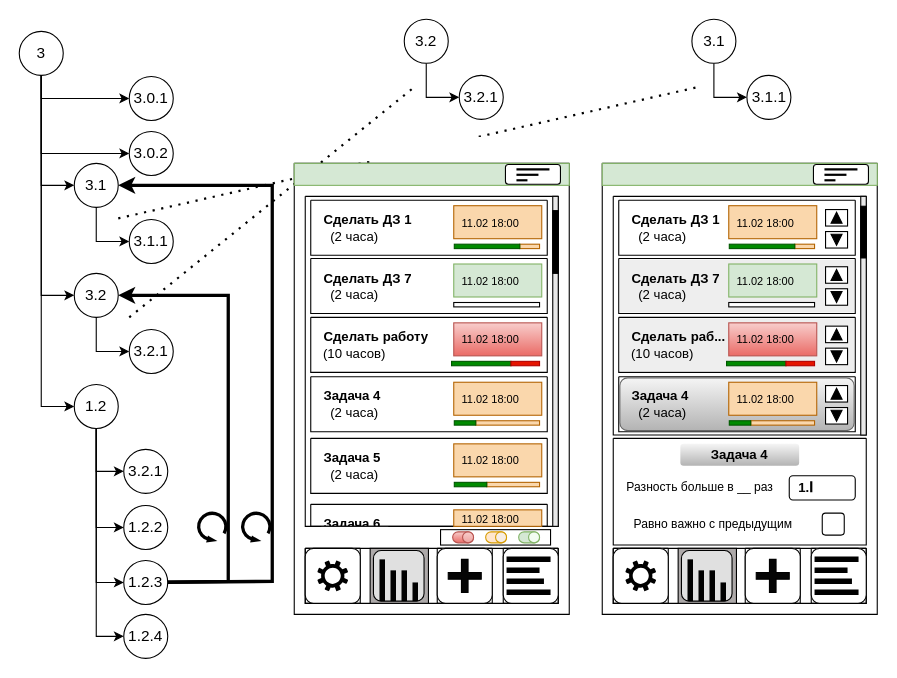
Some shapes in this 897 by 678 pixel diagram are drawn without their labels. Each missing label, with the box of its shape:
[режим просмотра]: (365, 136, 497, 161)
[режим ранжирования]: (659, 136, 819, 161)
